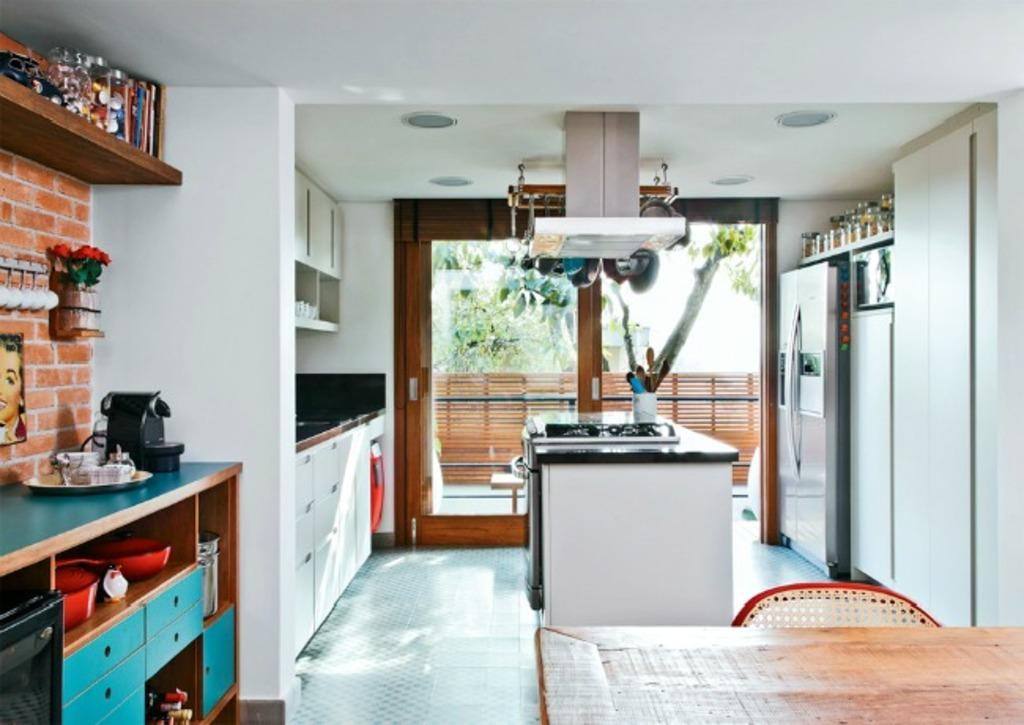cabinet_door: (61, 668, 141, 710), (64, 626, 134, 668), (311, 535, 355, 594), (152, 616, 202, 666), (298, 562, 318, 646), (310, 438, 358, 471), (150, 587, 204, 615), (316, 485, 354, 524), (296, 456, 315, 503), (296, 508, 313, 560)
handle: (782, 305, 798, 473), (96, 636, 118, 666), (100, 683, 116, 703), (171, 594, 185, 609), (170, 632, 184, 644)
